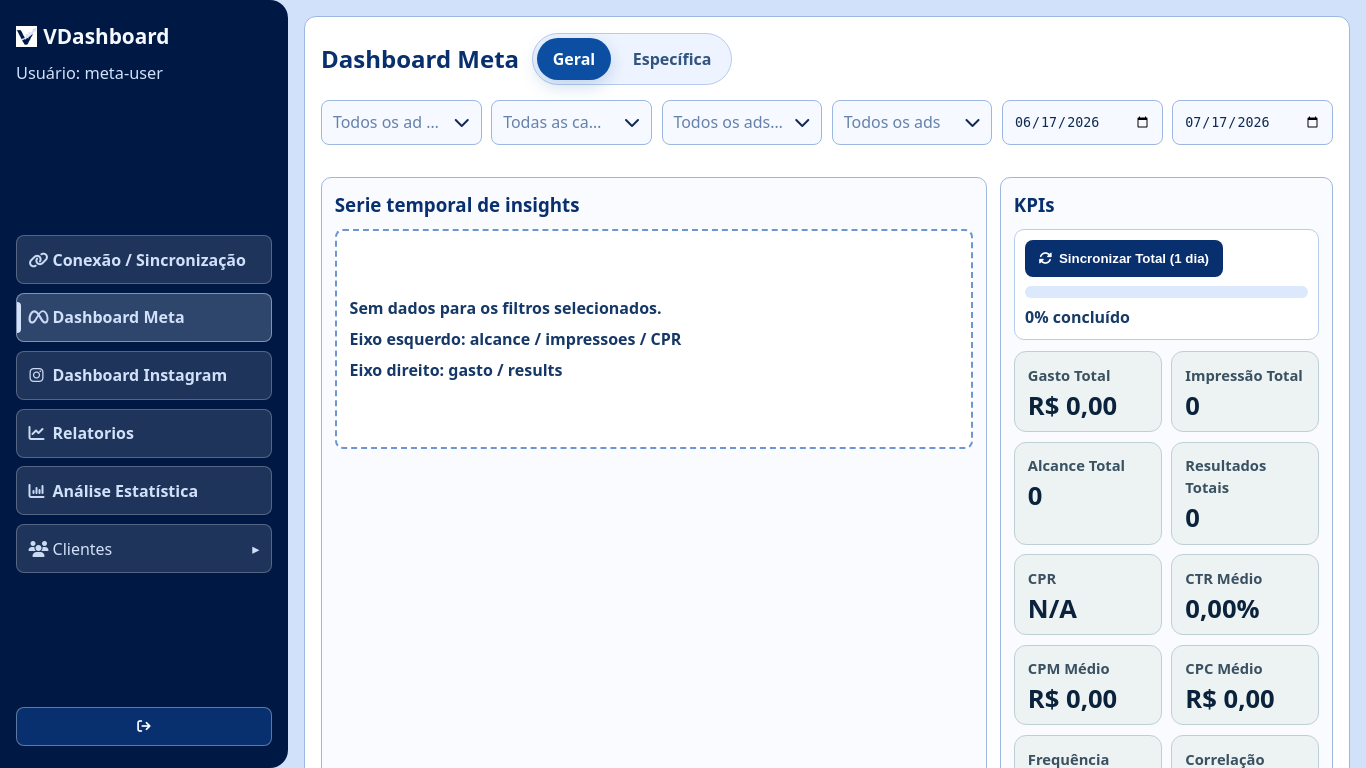
Test: App frontend flows › renders meta dashboard filters, chart and KPIs
Expected: the heading "Dashboard Meta" is shown, [321, 41, 519, 77]
Expected: the button with aria-label "Filtro de ad account" is shown, [321, 100, 482, 145]
Click the button with aria-label "Filtro de campaign".
click(572, 122)  # box [491, 100, 652, 145]
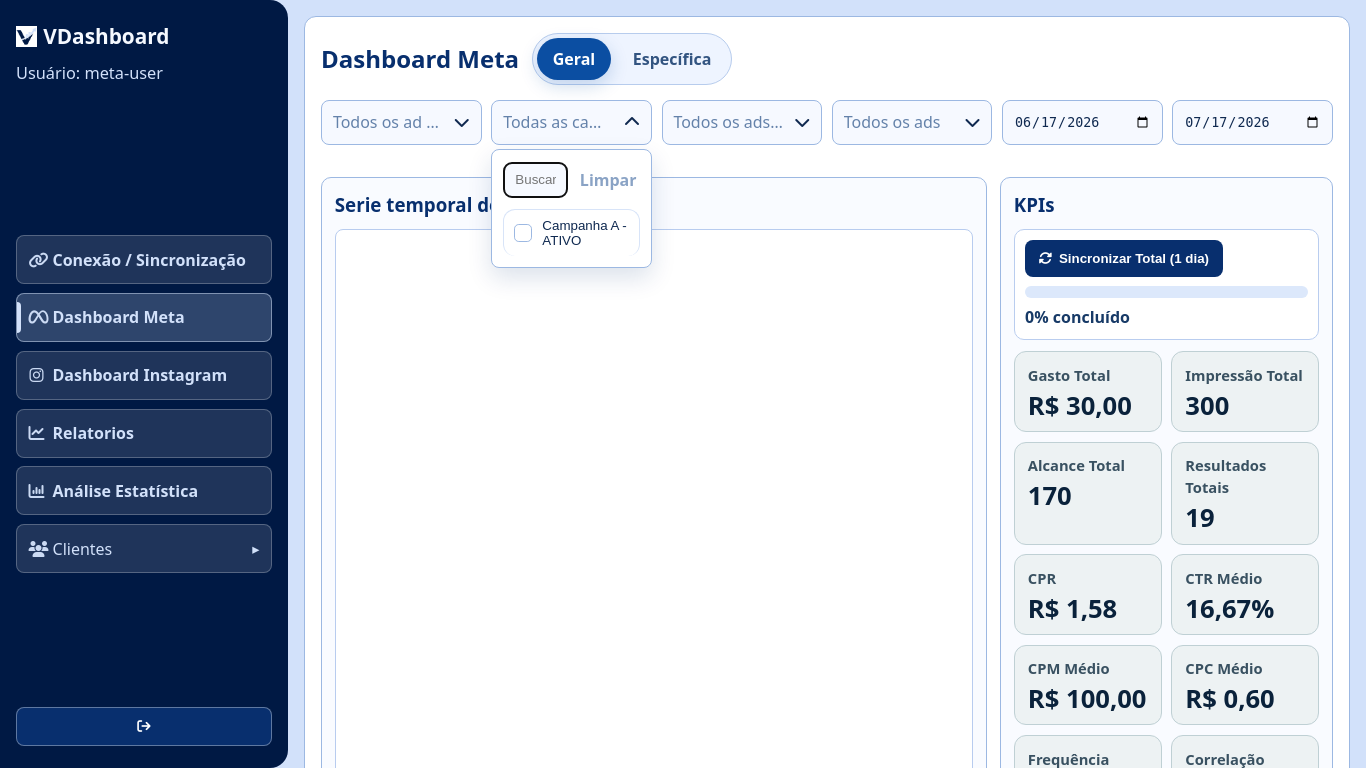
Expected: the button "Campanha A - ATIVO" is shown, [504, 209, 640, 256]
Click the button with aria-label "Filtro de adset".
click(742, 122)  # box [662, 100, 822, 145]
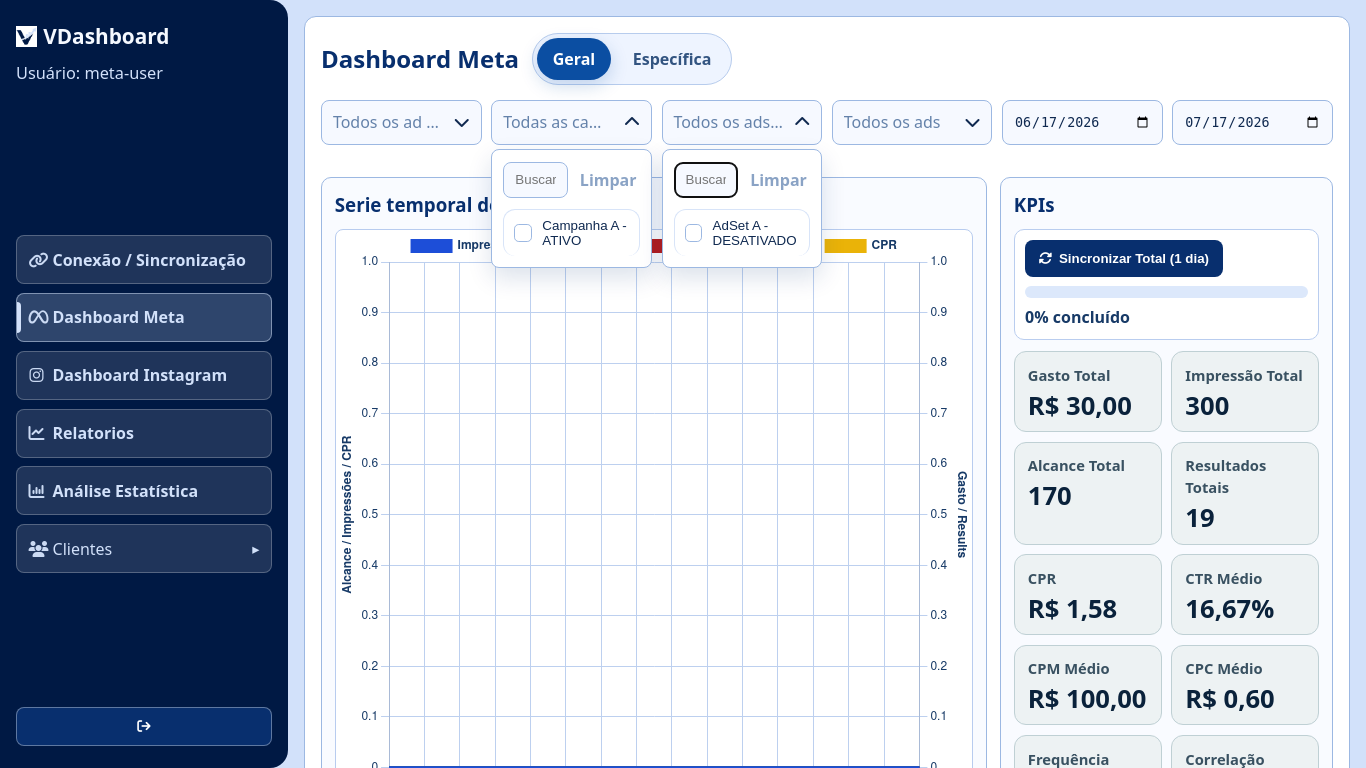
Expected: the button "AdSet A - DESATIVADO" is shown, [674, 209, 810, 256]
Click the button with aria-label "Filtro de ads".
click(912, 122)  # box [832, 100, 992, 145]
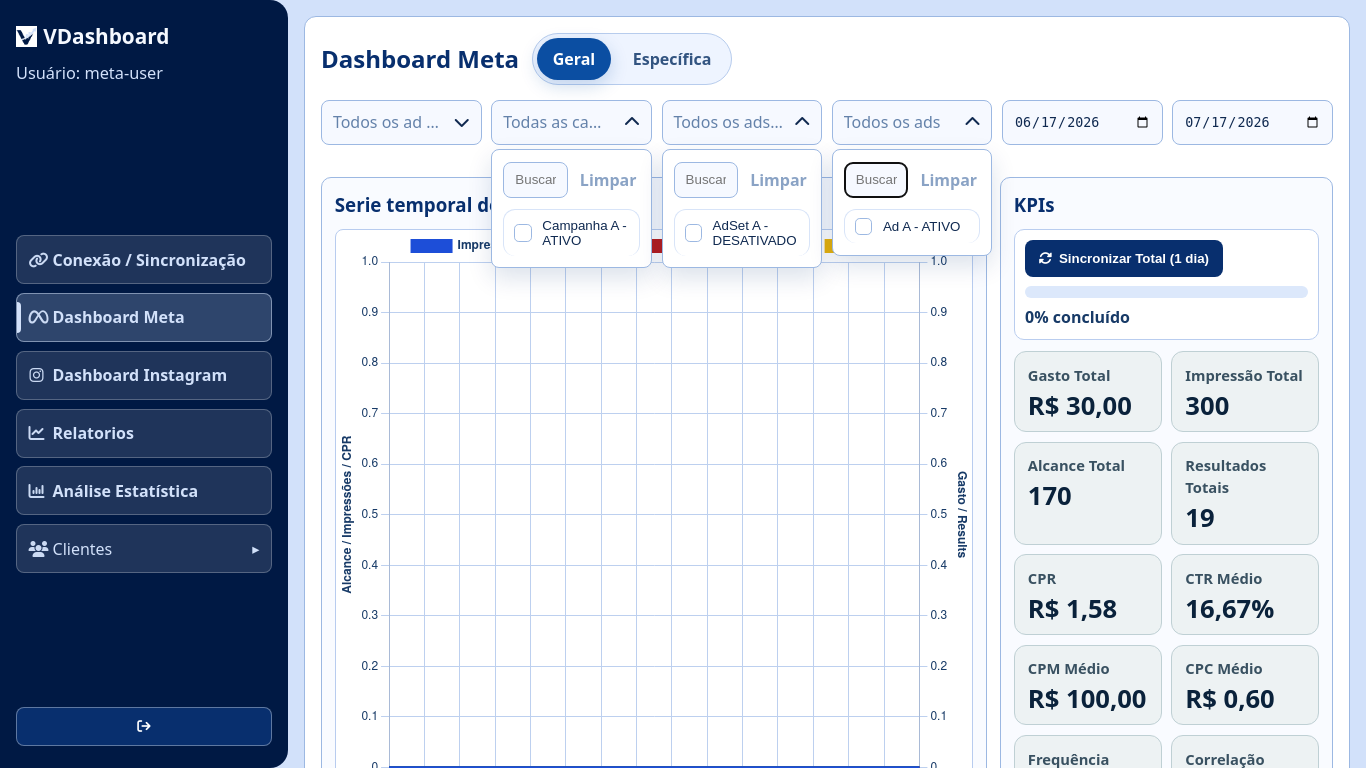
Expected: the button "Ad A - ATIVO" is shown, [844, 209, 980, 243]
